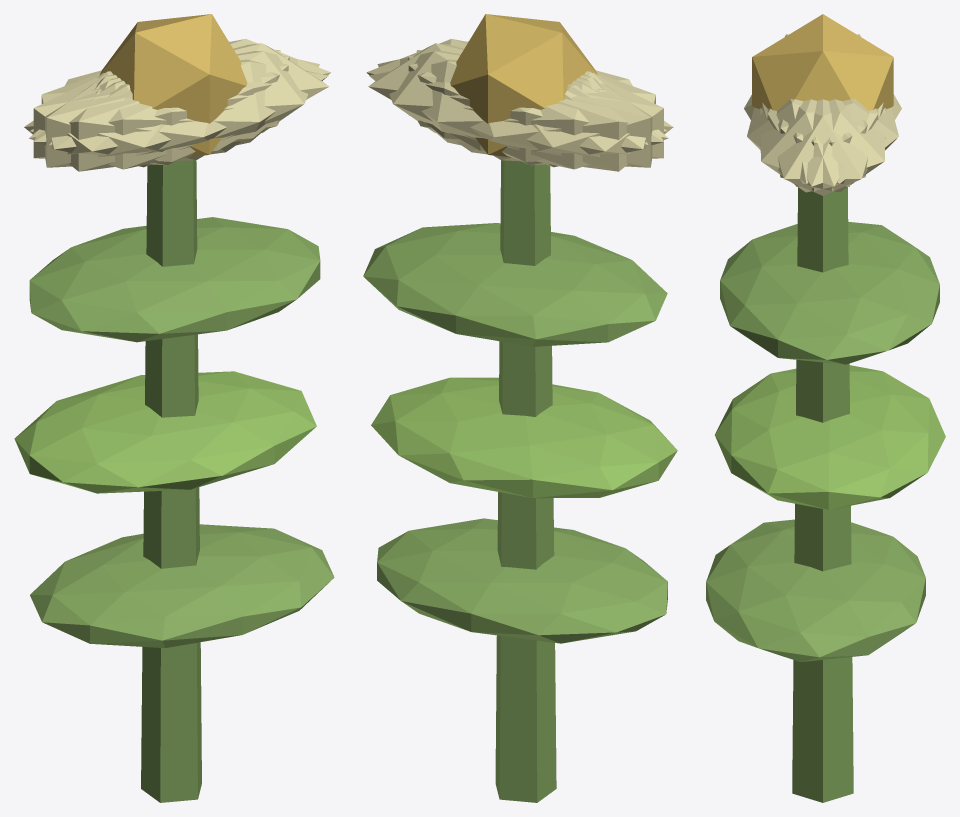
File: antigonon-leptopus.glb
3 renders of one model, left to right at view 1: azimuth 30°, elevation 25°; view 2: azimuth 150°, elevation 25°; view 3: azimuth 270°, elevation 25°, orthographic.
Visible parts, largest first — view 1: leaf0, leaf1, leaf2, stem, center, petal1, petal6, petal2, petal5, petal7, petal0, petal4 (+2 smaller); view 2: leaf2, leaf1, leaf0, stem, center, petal8, petal3, petal7, petal4, petal2, petal0, petal5 (+2 smaller); view 3: leaf2, leaf1, leaf0, stem, center, petal0, petal5, petal4, petal1, petal8.
Boxes of the visible parts, x1,y1,x2,y2 form: leaf0: (30,524,334,647); leaf1: (14,371,316,493); leaf2: (29,217,320,342); stem: (141,160,201,802); center: (100,14,247,157); petal1: (29,59,328,169); petal6: (24,73,240,171); petal2: (45,50,280,167); petal5: (49,51,319,161); petal7: (33,56,289,165); petal0: (99,43,328,151); petal4: (30,39,330,142); leaf2: (363,223,667,346); leaf1: (371,377,677,498); leaf0: (377,518,667,643); stem: (495,160,556,802); center: (450,14,597,157); petal8: (369,59,668,169); petal3: (456,73,673,171); petal7: (416,50,652,167); petal4: (377,51,648,161); petal2: (408,56,663,165); petal0: (368,43,597,151); petal5: (366,39,667,142); leaf2: (720,222,939,364); leaf1: (715,365,945,509); leaf0: (706,519,925,661); stem: (792,187,853,802); center: (752,14,893,110); petal0: (762,99,883,195); petal5: (760,99,878,192); petal4: (767,99,885,192); petal1: (747,99,867,183); petal8: (778,99,898,183).
Bounding box in the file's own units: 0.1452 × 0.361 × 0.1037.
